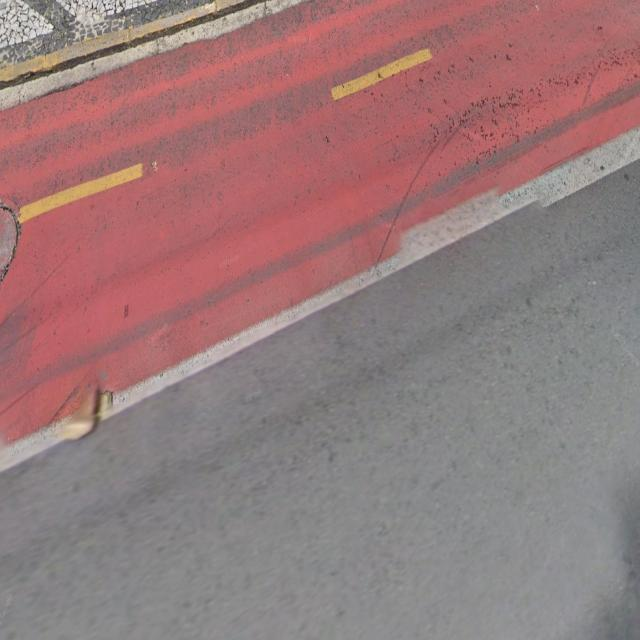Bueiro: (0, 195, 24, 314)
